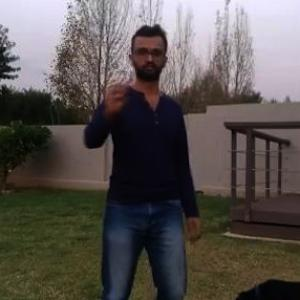takeoff-hand: (93, 66, 130, 118)
